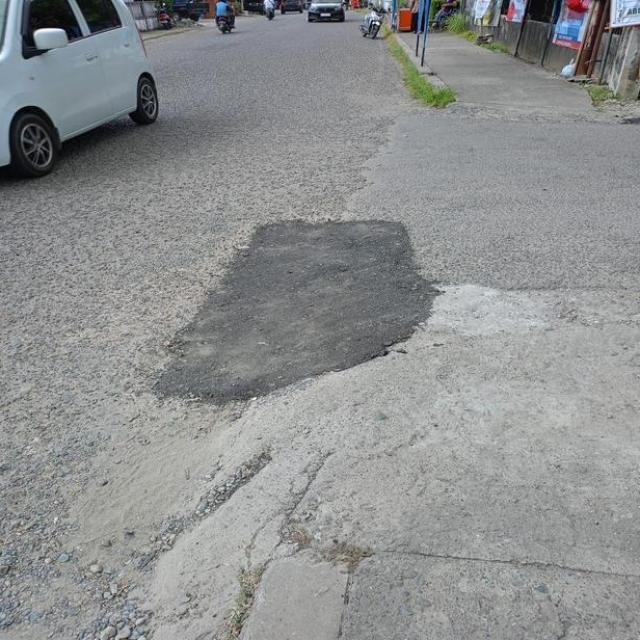Sambungan: (155, 222, 437, 408)
